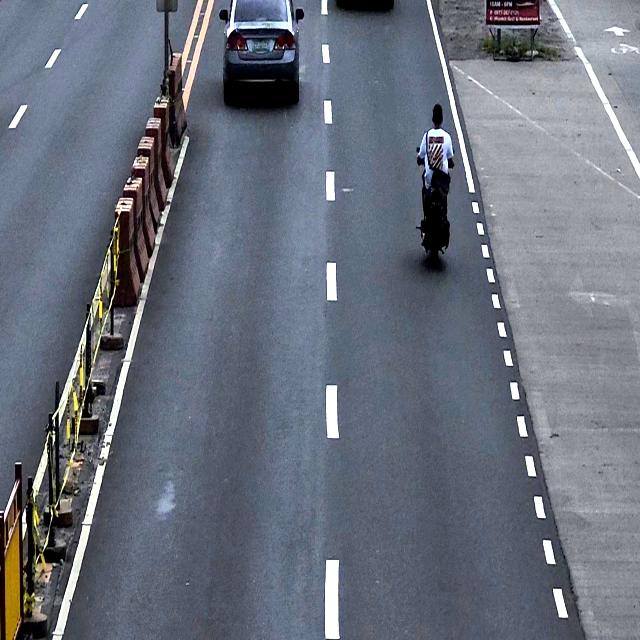Car: (218, 0, 304, 103)
License-Plate: (250, 36, 272, 52)
Motorcycle: (416, 146, 452, 264)
